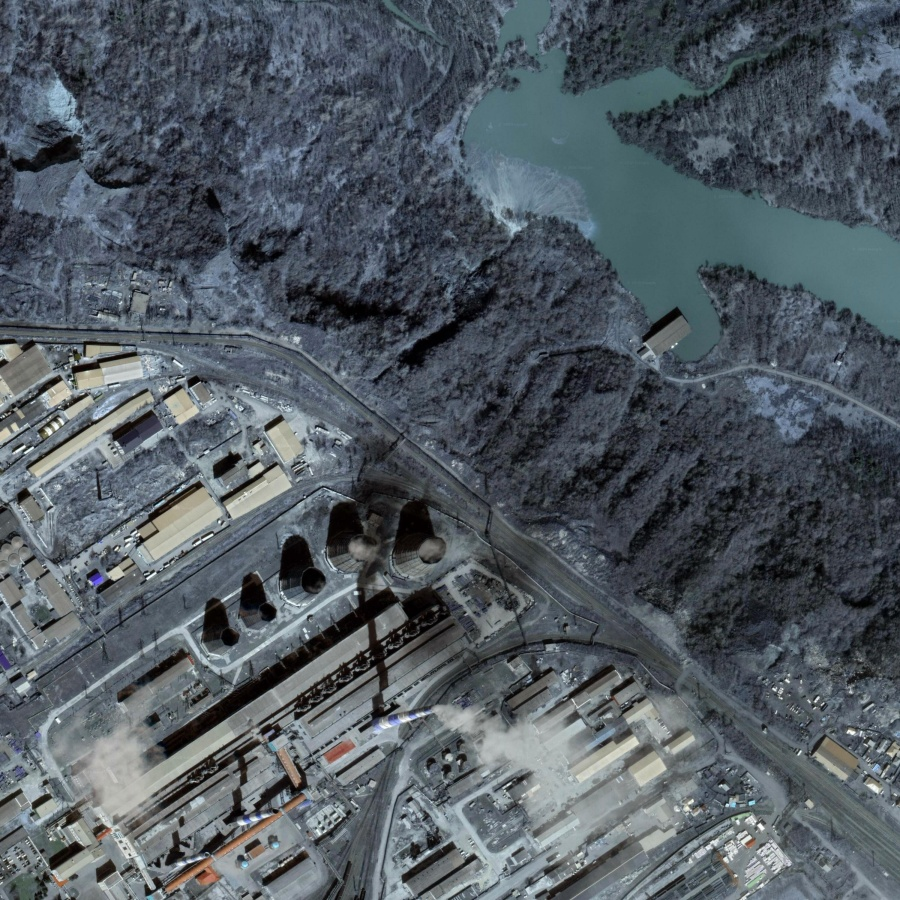PowerPlant: (103, 478, 550, 848)
